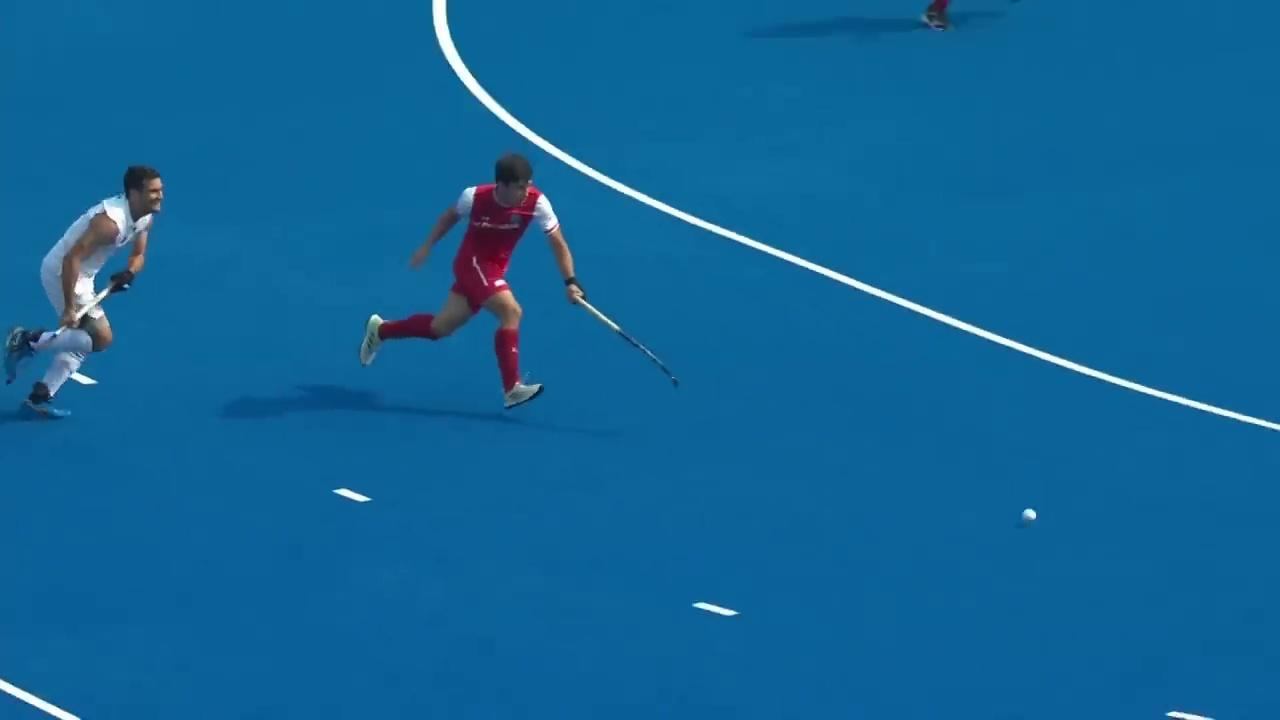ball: (1012, 499, 1046, 530)
